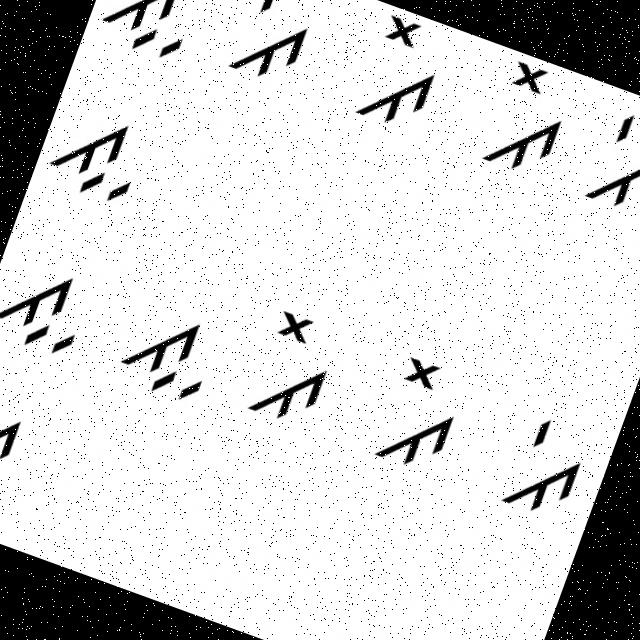kah: (33, 87, 164, 220), (107, 289, 230, 414), (0, 252, 100, 367), (88, 0, 215, 84)
ke: (488, 398, 599, 531), (211, 0, 329, 98), (576, 100, 639, 231), (0, 365, 41, 492)
ko: (352, 340, 481, 494), (461, 49, 584, 196), (236, 287, 354, 435), (335, 7, 456, 147)
